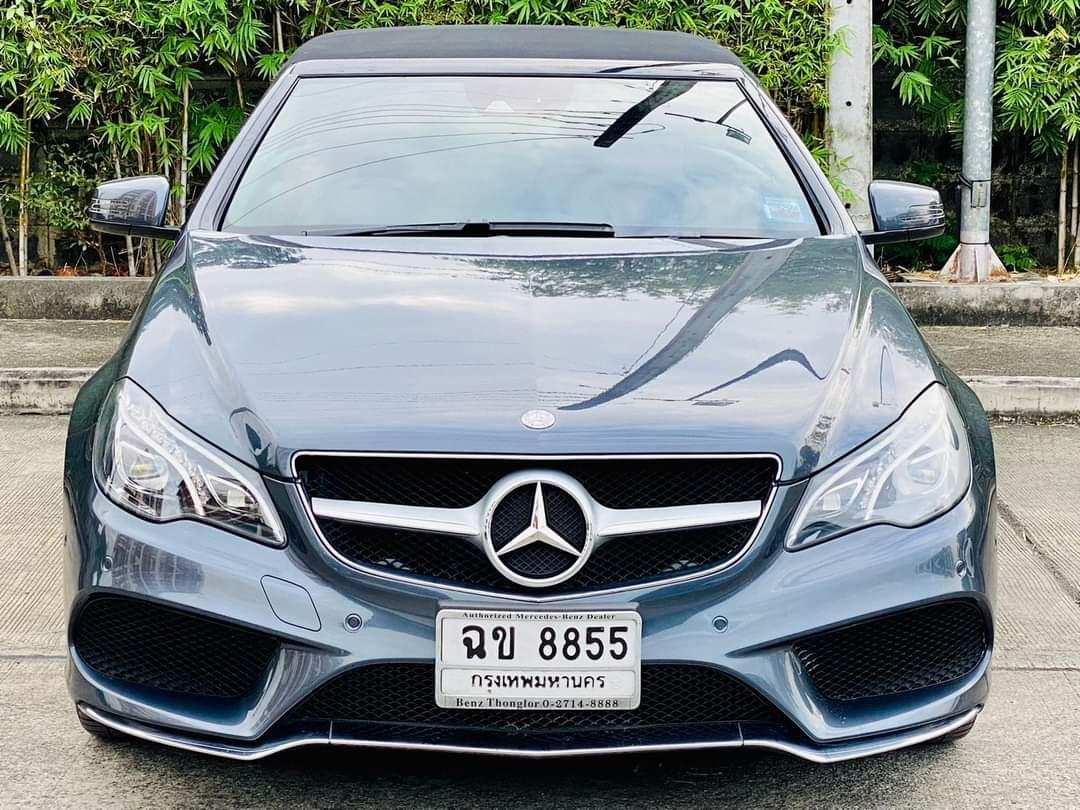license-plate: (435, 609, 641, 712)
